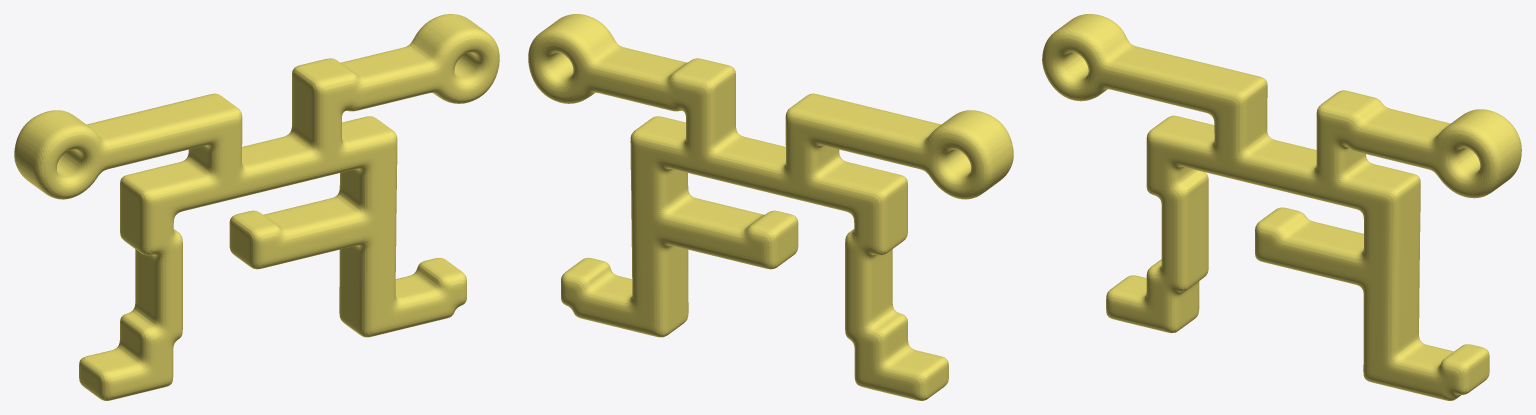
Rendered from chewmodel04.glb.
3 views of the same model, side by side, from view 1: azimuth 30°, elevation 25°; view 2: azimuth 150°, elevation 25°; view 3: azimuth 330°, elevation 25° (orthographic).
Visible parts, largest first — view 1: extrude.C.G; view 2: extrude.C.G; view 3: extrude.C.G.
Part boxes in pixels (x1,y1,x2,y2): extrude.C.G: (14,14,499,400); extrude.C.G: (528,14,1013,400); extrude.C.G: (1042,14,1521,400).
Size of the model in its own units: 370 by 216 by 41.23.
